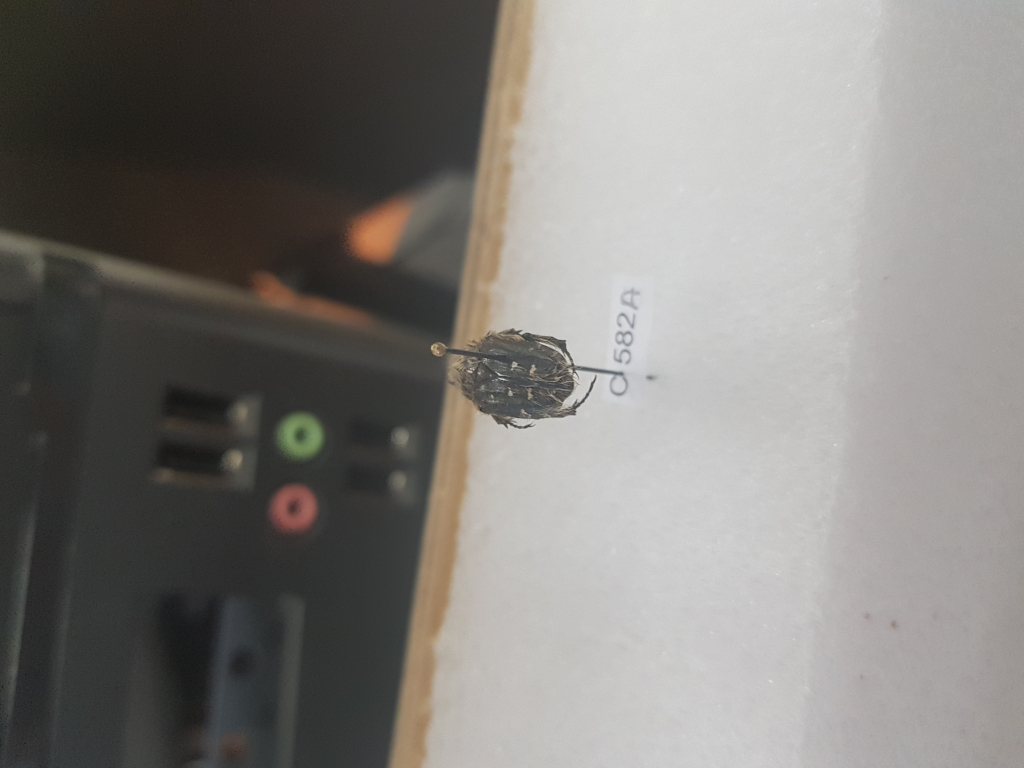Tropinota_hirta: (440, 315, 592, 440)
